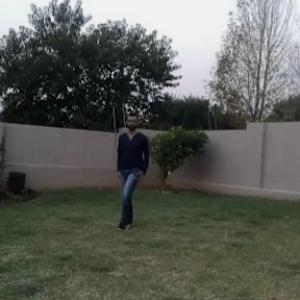follow: (114, 111, 148, 224)
